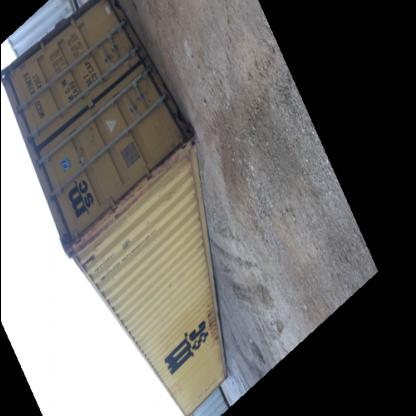Damage: (117, 142, 189, 206), (68, 208, 114, 249), (201, 298, 223, 352), (80, 254, 96, 272), (170, 380, 183, 398), (116, 240, 128, 251)
